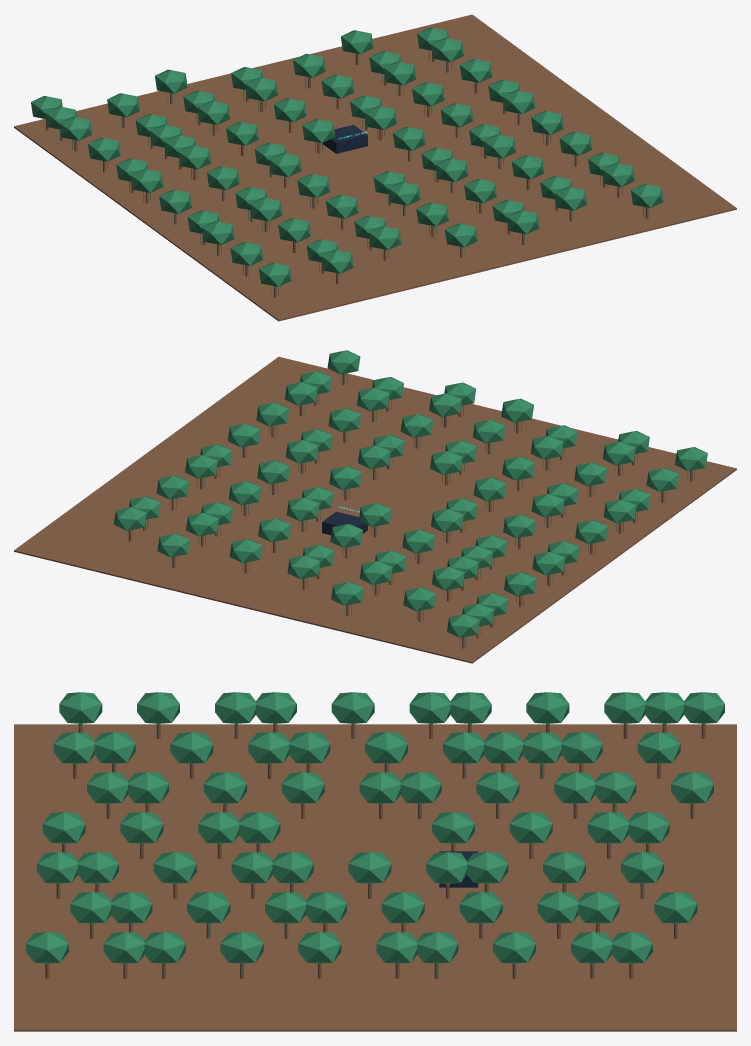
The model's file is ENV_Biome_amazon_scene_20261005.glb.
The picture shows the model from 3 angles, top to bottom: view 1: azimuth 30°, elevation 25°; view 2: azimuth 150°, elevation 25°; view 3: azimuth 270°, elevation 25°; orthographic projection. The views are drawn at different scales.
Visible parts, largest first — view 1: BIOME_Floor, BIOME_RangerHut, BIOME_Canopy.004, BIOME_Canopy.018, BIOME_Canopy.023, BIOME_Canopy.025, BIOME_Canopy.034, BIOME_Canopy.038, BIOME_Canopy.043, BIOME_Canopy.044, BIOME_Canopy.045, BIOME_Canopy.046 (+37 smaller); view 2: BIOME_Floor, BIOME_Canopy.066, BIOME_Canopy.024, BIOME_Canopy.041, BIOME_Canopy.063, BIOME_Canopy.067, BIOME_Canopy.027, BIOME_Canopy.032, BIOME_Canopy.046, BIOME_Canopy.062, BIOME_Canopy.023, BIOME_Canopy.028 (+37 smaller); view 3: BIOME_Floor, BIOME_Canopy.034, BIOME_Canopy.023, BIOME_Canopy.025, BIOME_Canopy.031, BIOME_Canopy.037, BIOME_Canopy.043, BIOME_Canopy.029, BIOME_Canopy.040, BIOME_Canopy.046, BIOME_Canopy.026, BIOME_Canopy.028 (+59 smaller).
Part boxes in pixels (x1,y1,x2,y2): BIOME_Floor: [14, 14, 736, 321]; BIOME_RangerHut: [322, 125, 367, 153]; BIOME_Canopy.004: [507, 210, 539, 234]; BIOME_Canopy.018: [483, 134, 516, 158]; BIOME_Canopy.023: [416, 202, 449, 226]; BIOME_Canopy.025: [412, 82, 444, 106]; BIOME_Canopy.034: [278, 218, 310, 242]; BIOME_Canopy.038: [511, 155, 544, 179]; BIOME_Canopy.043: [445, 223, 477, 247]; BIOME_Canopy.044: [321, 74, 354, 98]; BIOME_Canopy.045: [440, 103, 473, 127]; BIOME_Canopy.046: [559, 132, 592, 155]; BIOME_Floor: [14, 356, 736, 663]; BIOME_Canopy.066: [285, 439, 318, 463]; BIOME_Canopy.024: [229, 539, 262, 562]; BIOME_Canopy.041: [503, 514, 535, 538]; BIOME_Canopy.063: [530, 435, 563, 459]; BIOME_Canopy.067: [284, 381, 317, 405]; BIOME_Canopy.027: [646, 468, 679, 491]; BIOME_Canopy.032: [156, 475, 189, 499]; BIOME_Canopy.046: [256, 402, 288, 426]; BIOME_Canopy.062: [531, 493, 564, 517]; BIOME_Canopy.023: [472, 419, 505, 443]; BIOME_Canopy.028: [403, 587, 436, 611]; BIOME_Floor: [14, 724, 736, 1031]; BIOME_Canopy.034: [170, 732, 213, 763]; BIOME_Canopy.023: [120, 812, 163, 843]; BIOME_Canopy.025: [459, 892, 502, 923]; BIOME_Canopy.031: [654, 892, 697, 923]; BIOME_Canopy.037: [348, 852, 391, 883]; BIOME_Canopy.043: [42, 812, 85, 843]; BIOME_Canopy.029: [476, 772, 519, 803]; BIOME_Canopy.040: [526, 692, 569, 723]; BIOME_Canopy.046: [220, 932, 263, 963]; BIOME_Canopy.026: [298, 932, 341, 963]; BIOME_Canopy.028: [637, 732, 680, 763].
Bounding box in the file's own units: 130 × 9.55 × 130.
